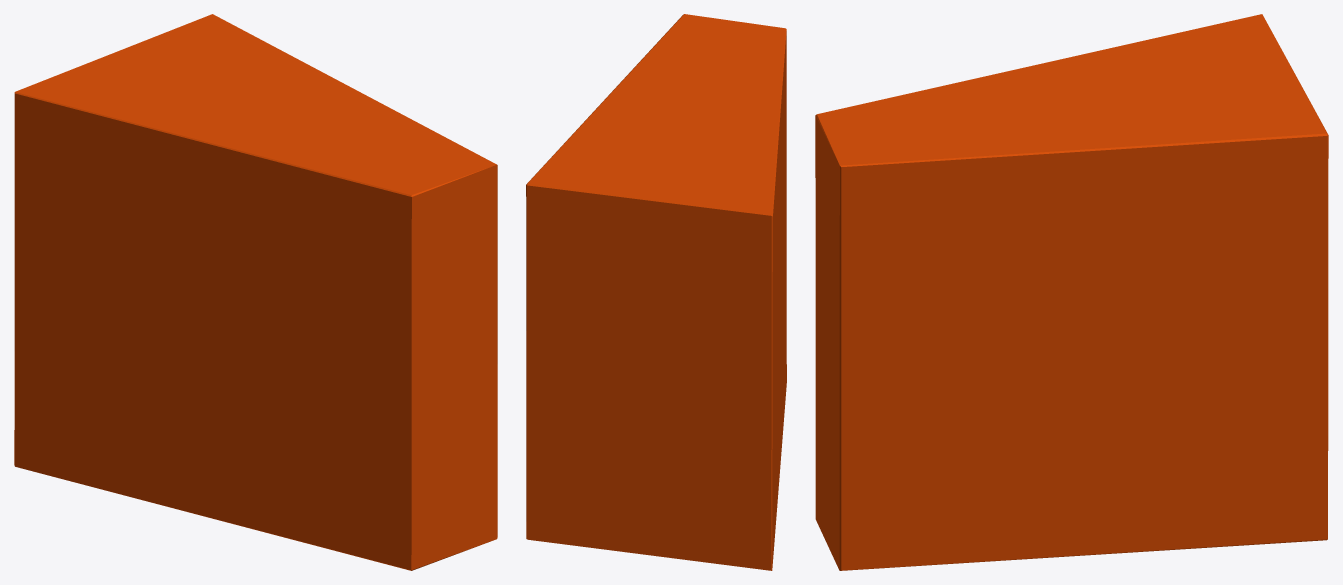
3 renders of one model, left to right at view 1: azimuth 30°, elevation 25°; view 2: azimuth 150°, elevation 25°; view 3: azimuth 270°, elevation 25°, orthographic. The views are drawn at different scales.
Visible parts, largest first — view 1: Mesh_56_LOD0; view 2: Mesh_56_LOD0; view 3: Mesh_56_LOD0.
Part boxes in pixels (x1,y1,x2,y2): Mesh_56_LOD0: [14, 14, 497, 570]; Mesh_56_LOD0: [526, 14, 786, 570]; Mesh_56_LOD0: [815, 14, 1328, 570].
Size of what is drawn, in the model's own units: 4024 by 5000 by 5716.
